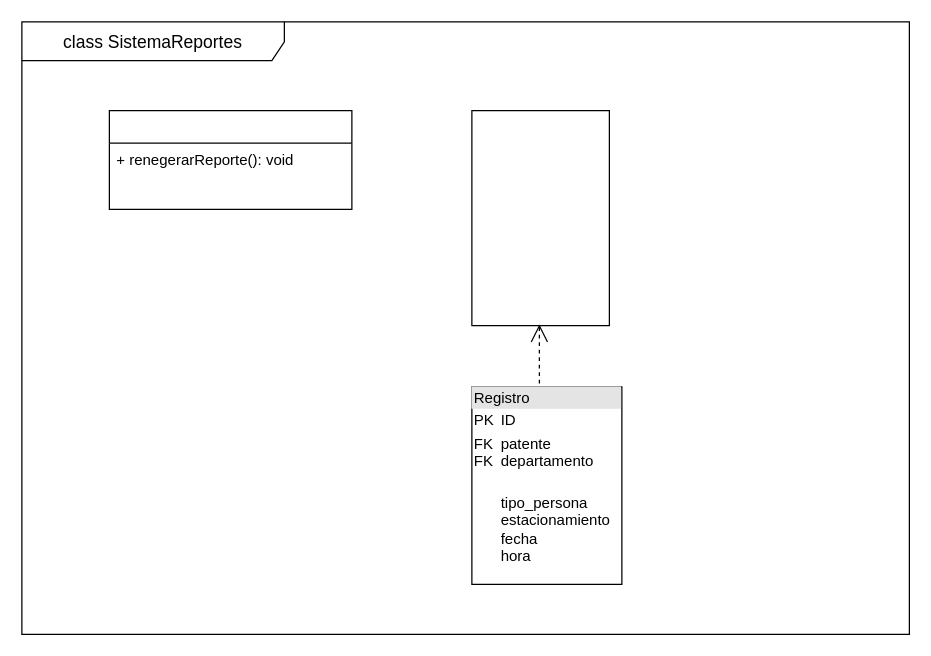
Some shapes in this 931 by 656 pixel diagram are drawn without their labels. Each missing label, with the box of its shape:
SistemaReportes: (108, 109, 352, 209)
Vehiculo PK ID login clave estado rut nombre email telefono: (471, 109, 609, 326)
